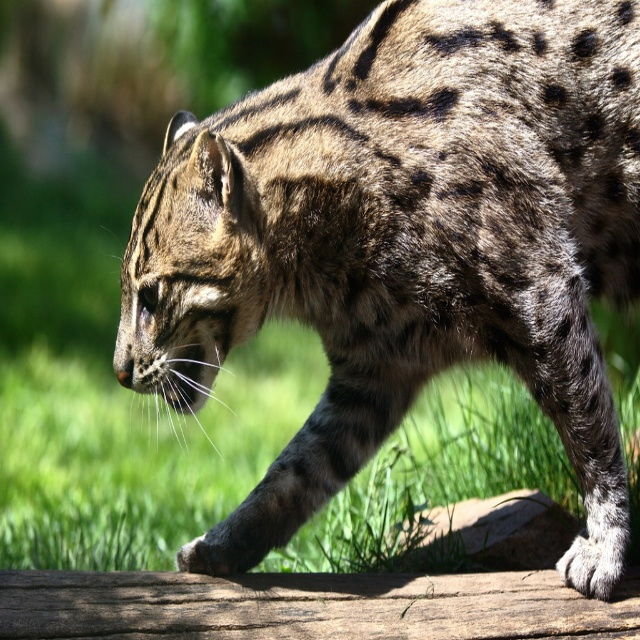Leopard: (98, 0, 640, 610)
